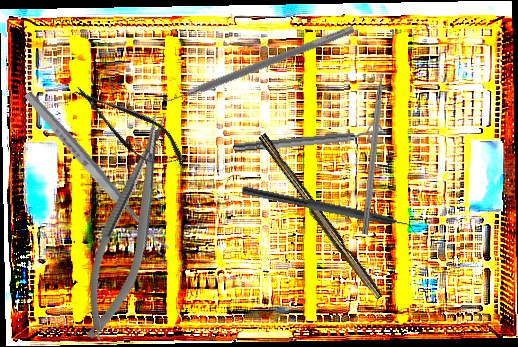Chopper: (237, 185, 427, 242)
Fixation Ring: (232, 122, 384, 159)
Hook Surgical: (361, 59, 389, 235)
Micro Scissor: (64, 73, 194, 181)
Needle Holder: (67, 108, 191, 346)
Scalpel Handle: (253, 132, 386, 303)
Spatula Surgical: (158, 16, 355, 110)
Surgical Spoon: (21, 89, 171, 257)
